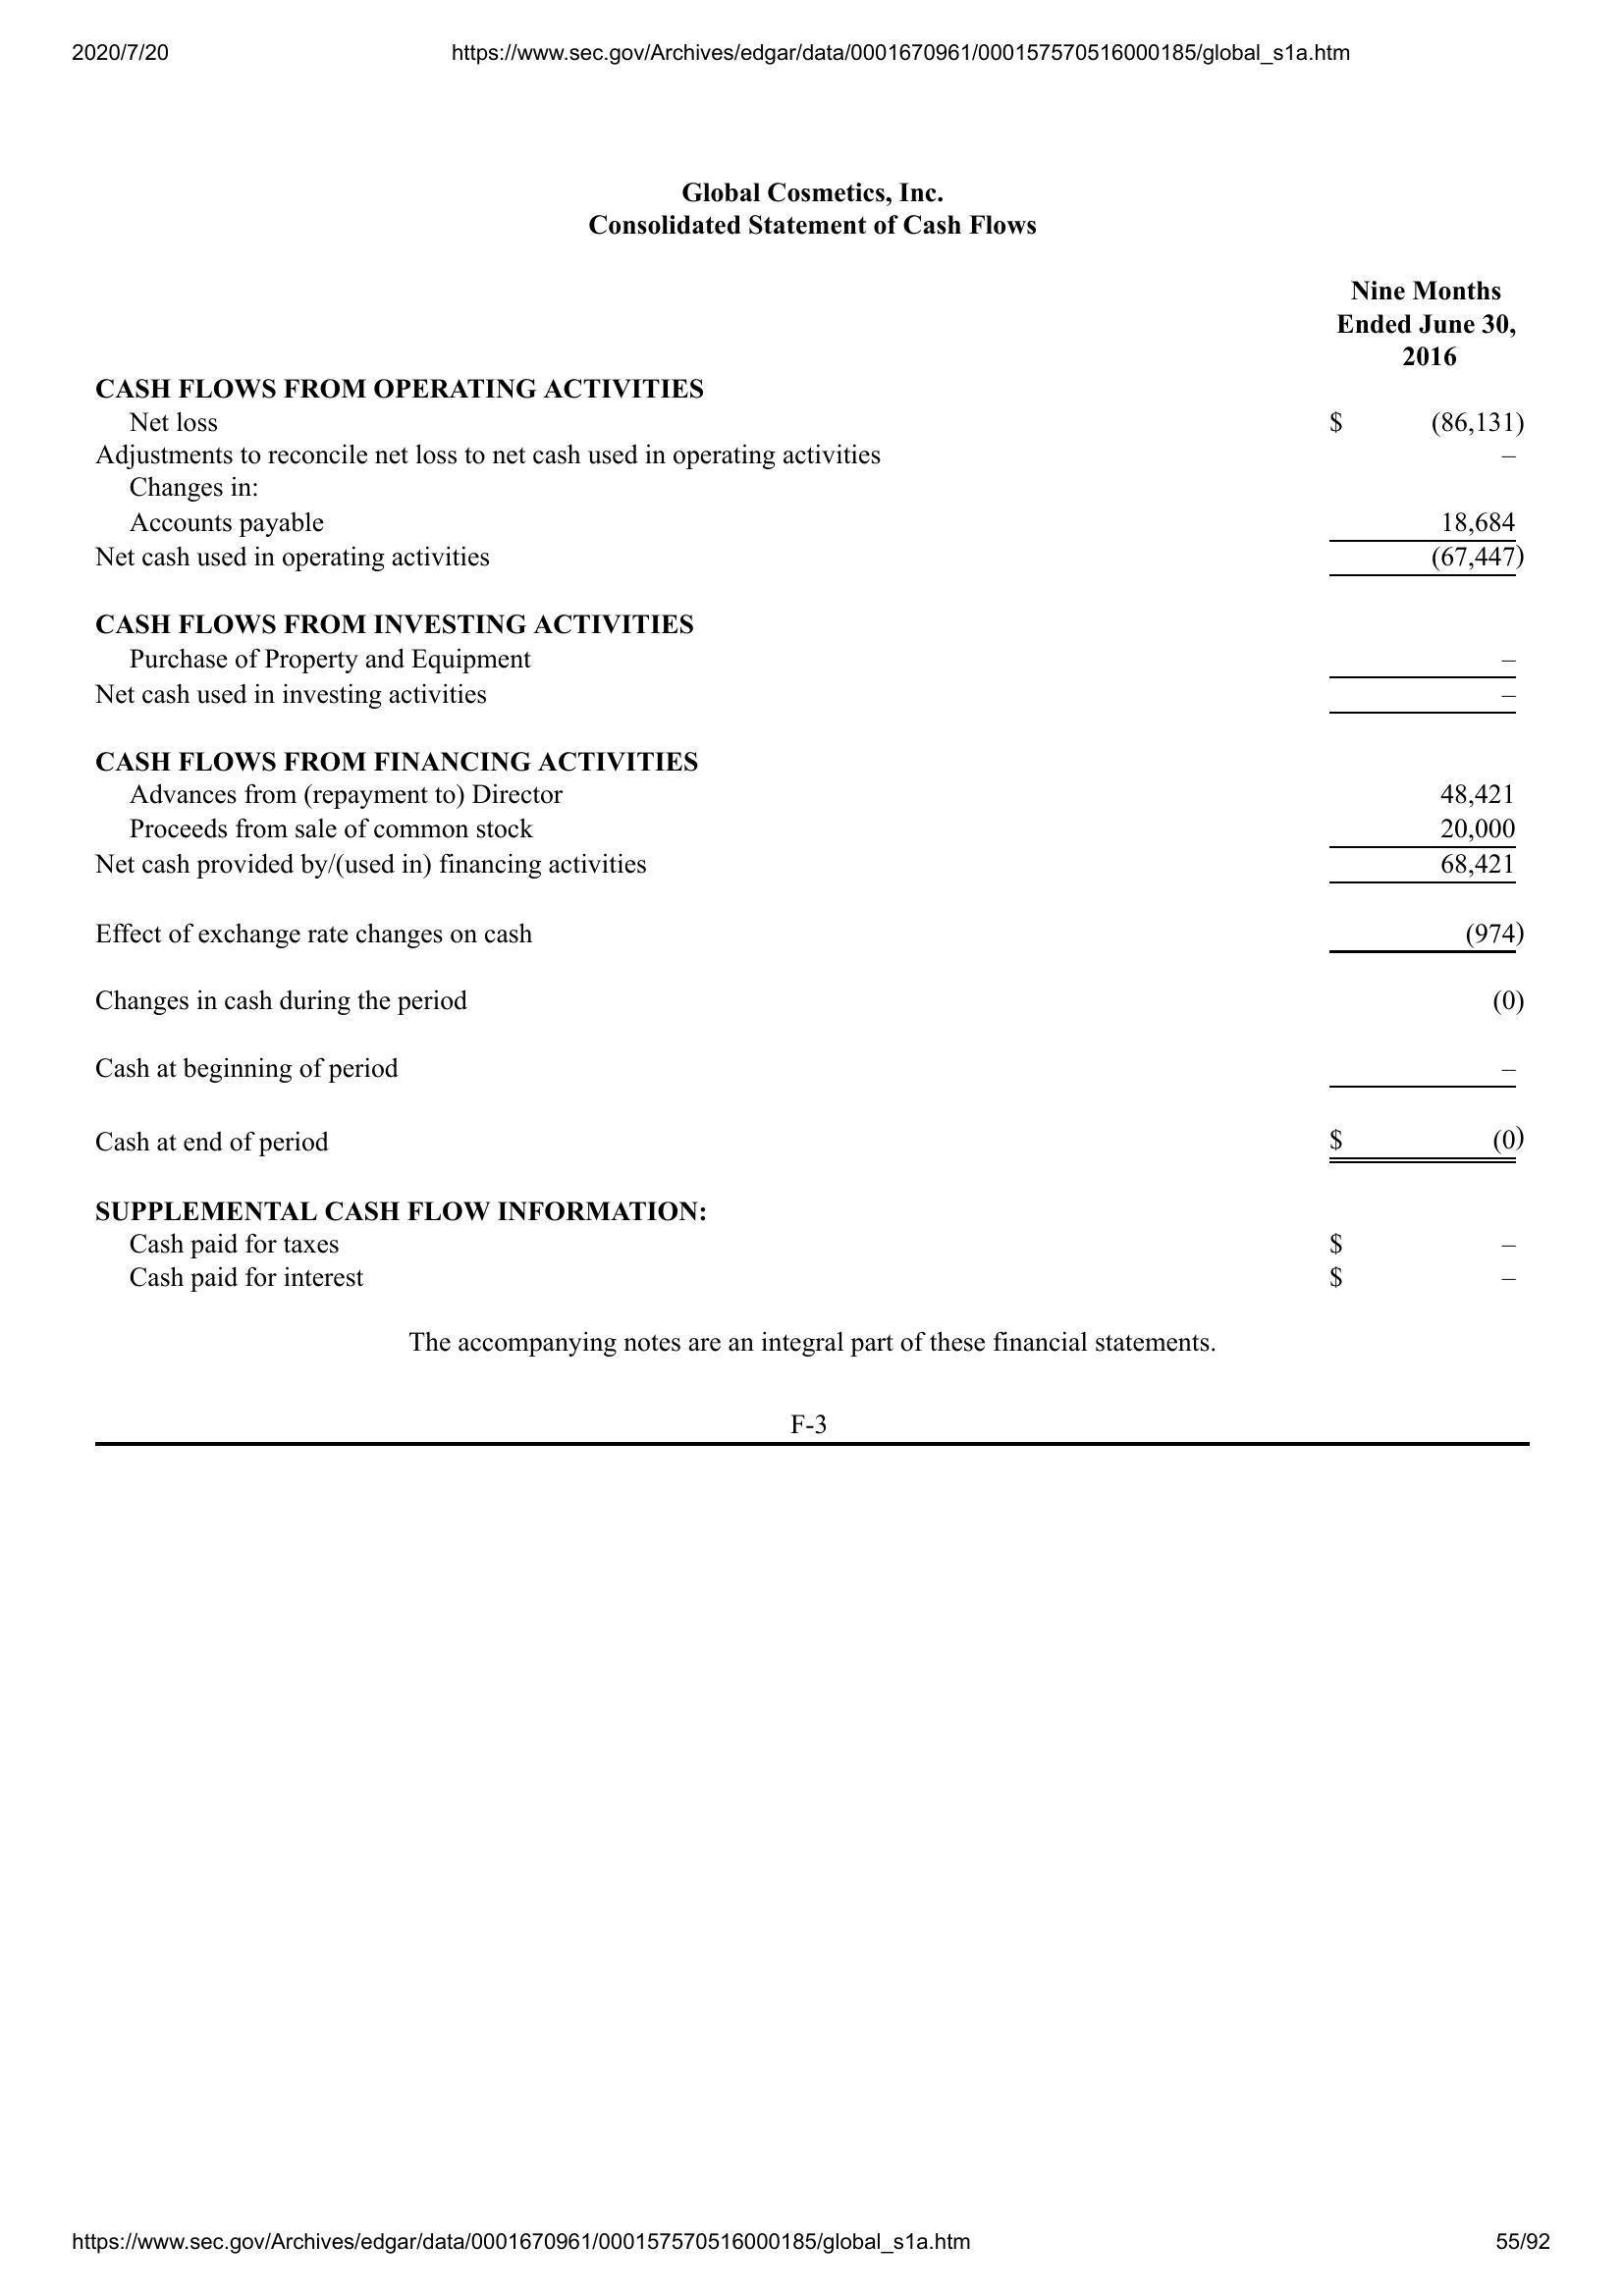table: (84, 277, 1533, 1301)
